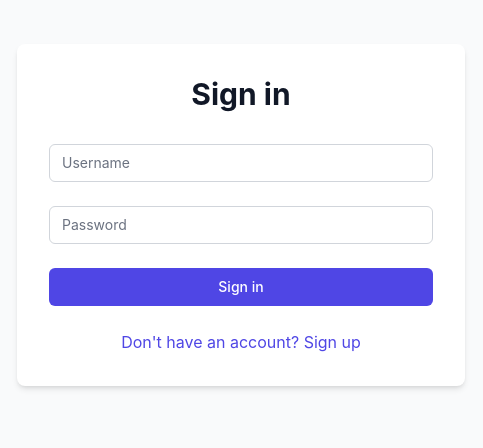
Test: Authentication › should show error message with invalid credentials
In the field with placeholder "Username": (241, 163) [49, 144, 433, 182], type "wronguser"
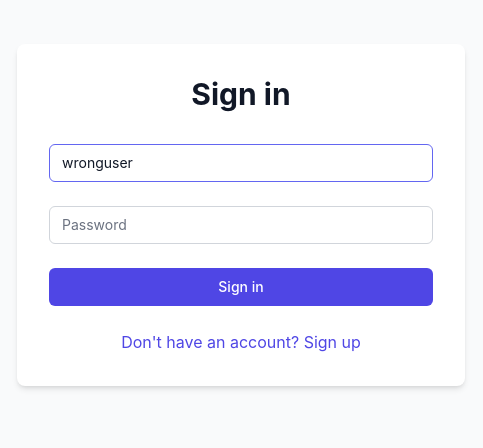
In the password field with placeholder "Password": (241, 225) [49, 206, 433, 244], type "wrongpass"
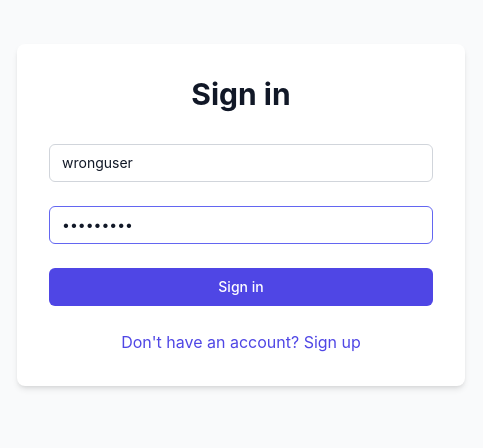
Click the submit button: (241, 287) [49, 268, 433, 306]
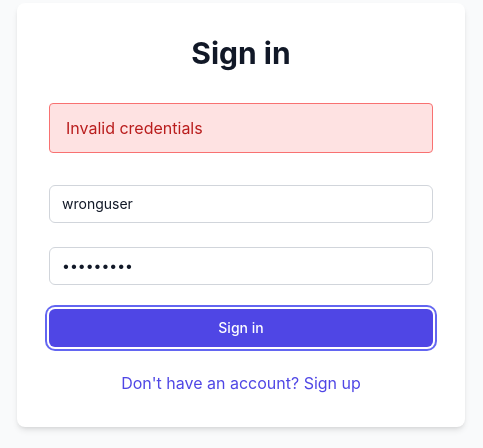
Expected: the text "Invalid credentials" is shown, [49, 103, 433, 153]
